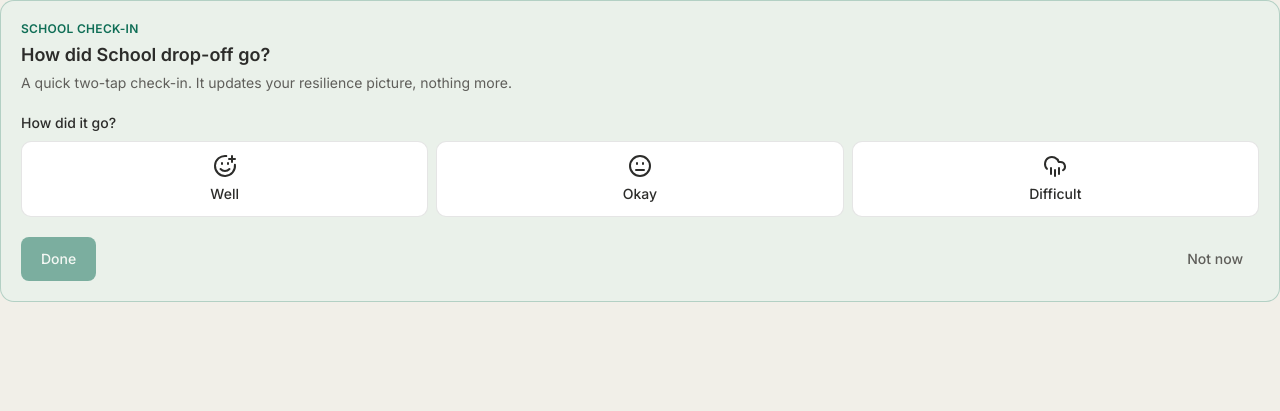
PulseCard › never frames the second question as a 'challenge' on a 'Well' outcome (the board's minimum)
Click the button "Well": (225, 179) [21,141,428,217]
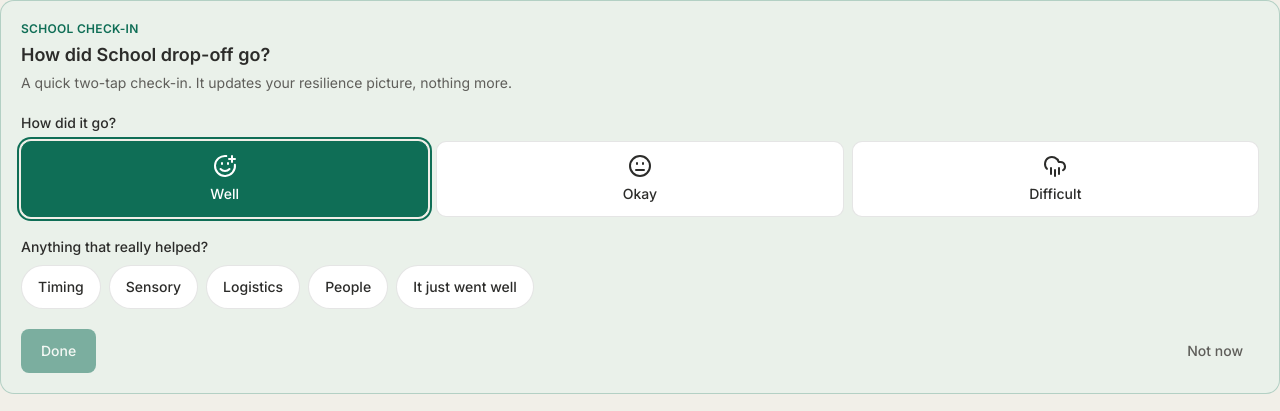
Now the text "Anything that really helped?" is shown, box [21,237,208,257]
Now the button "It just went well" is shown, box [396,265,534,309]
